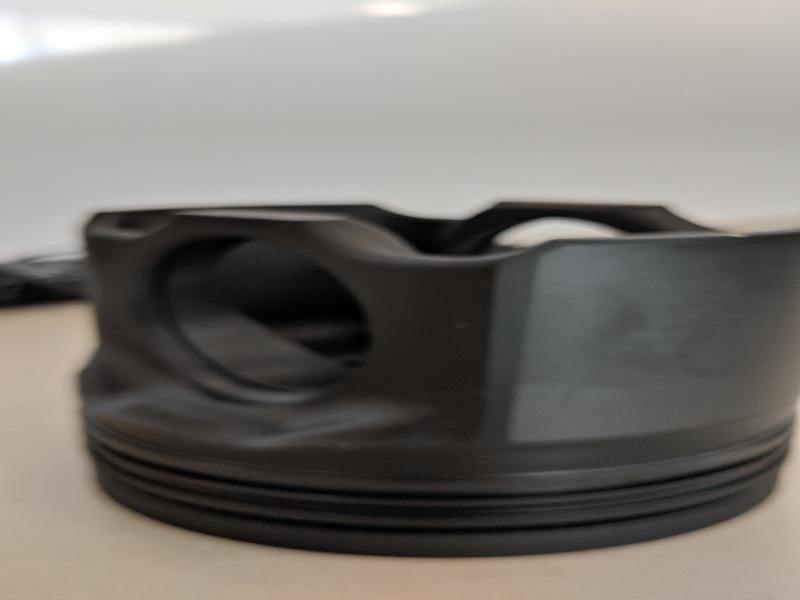piston: (78, 195, 800, 564)
